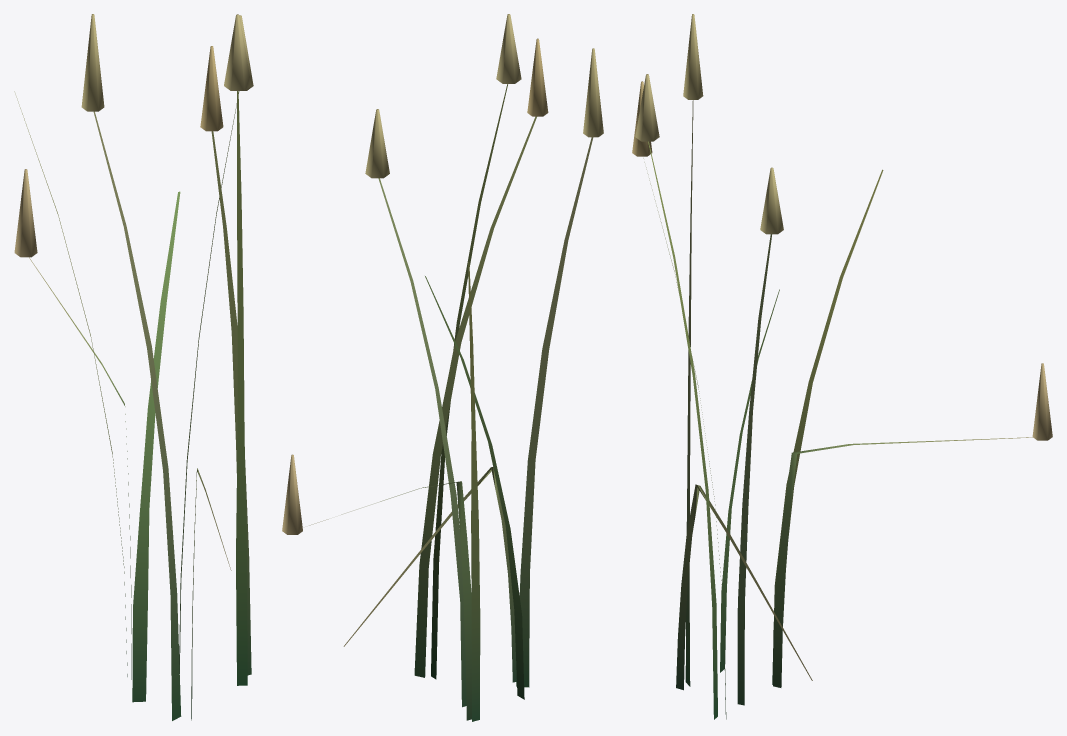
File: env_grass_wispy_seedhead_01.glb
3 views of the same model, side by side, from view 1: azimuth 30°, elevation 25°; view 2: azimuth 150°, elevation 25°; view 3: azimuth 270°, elevation 25° (orthographic). The views are drawn at different scales.
Parts seen in each view (by area): view 1: grass_wispy_seedhead; view 2: grass_wispy_seedhead; view 3: grass_wispy_seedhead.
Part boxes in pixels (left/top/right/bottom): grass_wispy_seedhead: left=14, top=14, right=253, bottom=720; grass_wispy_seedhead: left=282, top=14, right=603, bottom=721; grass_wispy_seedhead: left=632, top=14, right=1052, bottom=719.
Size of the model in its own units: 0.156 by 0.5057 by 0.3004.
